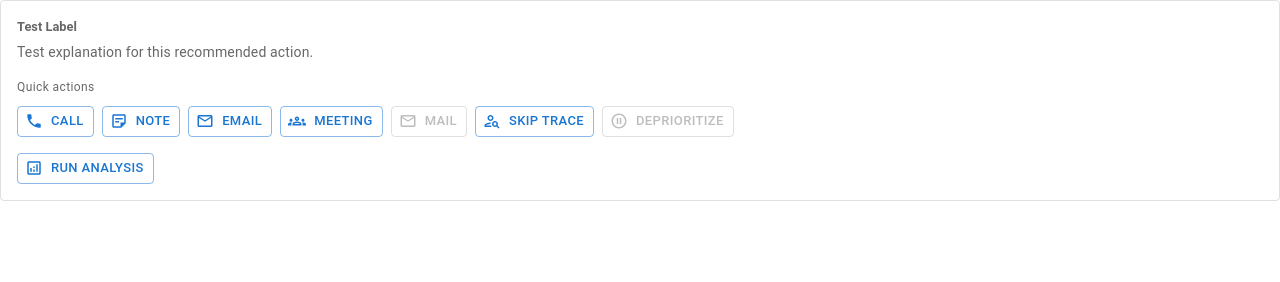
Test: RecommendedActionPanel › inline error on action failure › clears error when close button on alert is clicked
What coordinates should you click on to do the following:
click the button with test id "ra-action-btn-run_analysis"
I would click on:
 (85, 168)
Its box is 17,153 -> 154,184.
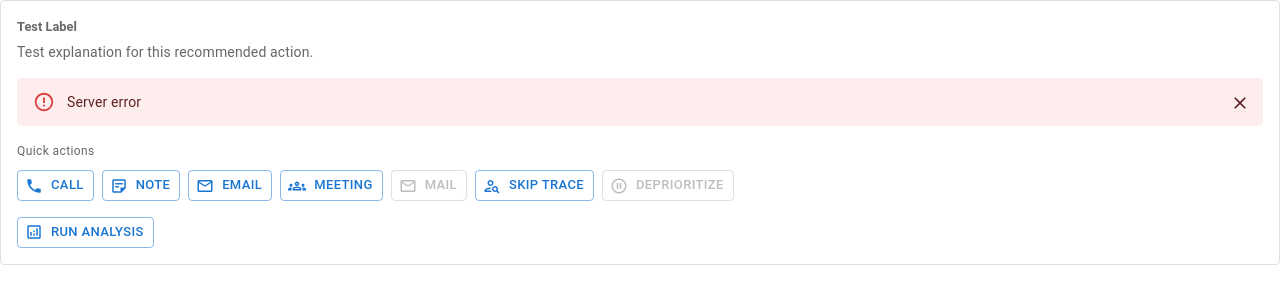
Result: the message "Server error" is shown at 17,78 -> 1263,126
Note: Close the alert
What coordinates should you click on to do the following:
click the button named "close"
I would click on:
 (1240, 103)
Its box is 1225,88 -> 1255,118.
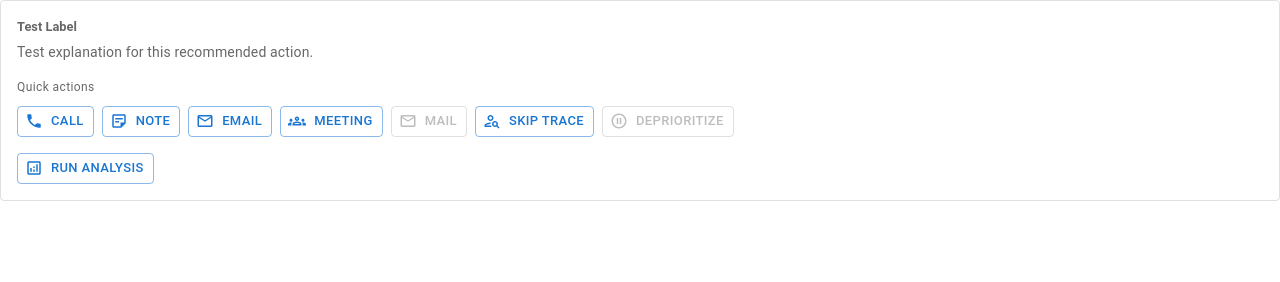
Result: the message with test id "ra-action-error" is gone
